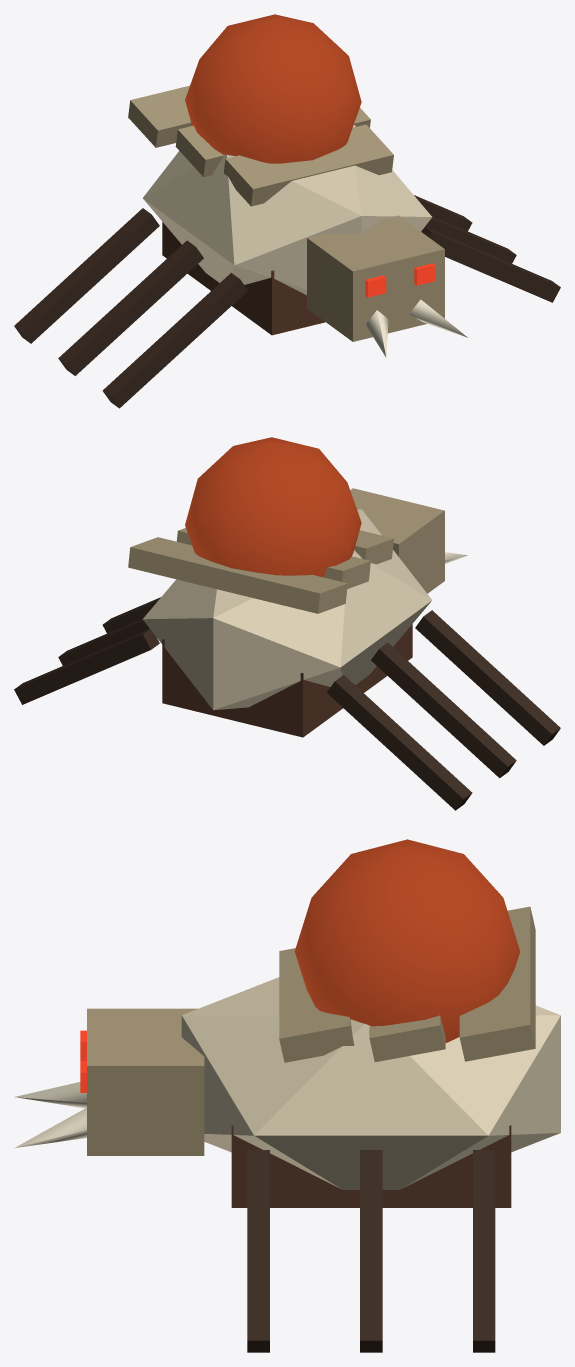
Rendered from BO_SK_Enemy_Bomber_v001.glb.
3 renders of one model, top to bottom at view 1: azimuth 30°, elevation 25°; view 2: azimuth 150°, elevation 25°; view 3: azimuth 270°, elevation 25°, orthographic. The views are drawn at different scales.
Parts seen in each view (by area): view 1: glow_005, body_000, body_006, body_004, body_014, body_016, body_012, body_001, body_011, body_002, body_003, body_013 (+3 smaller); view 2: body_000, glow_005, body_002, body_001, body_006, body_014, body_012, body_016, body_015, body_013, body_003, body_004 (+1 smaller); view 3: body_000, glow_005, body_006, body_001, body_002, body_004, body_011, body_013, body_015, body_003, body_009, body_010.
Part boxes in pixels (x1,y1,x2,y2): glow_005: (185,14,361,163); body_000: (143,125,431,295); body_006: (307,215,444,341); body_004: (223,124,393,206); body_014: (58,240,203,375); body_016: (14,208,159,343); body_012: (102,273,247,408); body_001: (162,222,325,335); body_011: (421,226,560,302); body_002: (128,85,191,147); body_003: (175,108,370,177); body_013: (425,216,516,263); body_000: (142,509,432,710); glow_005: (185,437,361,577); body_002: (128,537,347,613); body_001: (162,624,412,737); body_006: (350,488,444,593); body_014: (371,642,516,778); body_012: (415,610,560,745); body_016: (326,675,472,810); body_015: (14,629,159,704); body_013: (58,618,149,665); body_003: (176,528,370,588); body_004: (354,530,393,564); body_000: (181,977,560,1189); glow_005: (294,839,520,1042); body_006: (87,1008,204,1155); body_001: (231,1125,511,1207); body_002: (459,906,535,1061); body_004: (279,948,354,1062); body_011: (247,1150,269,1352); body_013: (360,1150,382,1352); body_015: (473,1150,495,1352); body_003: (369,1015,445,1062); body_009: (14,1107,86,1148); body_010: (15,1082,86,1108).
Size of the model in its own units: 1.47 by 0.9012 by 1.21.
